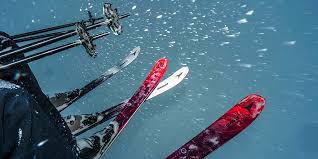skis: (80, 58, 266, 159), (50, 44, 189, 132)
